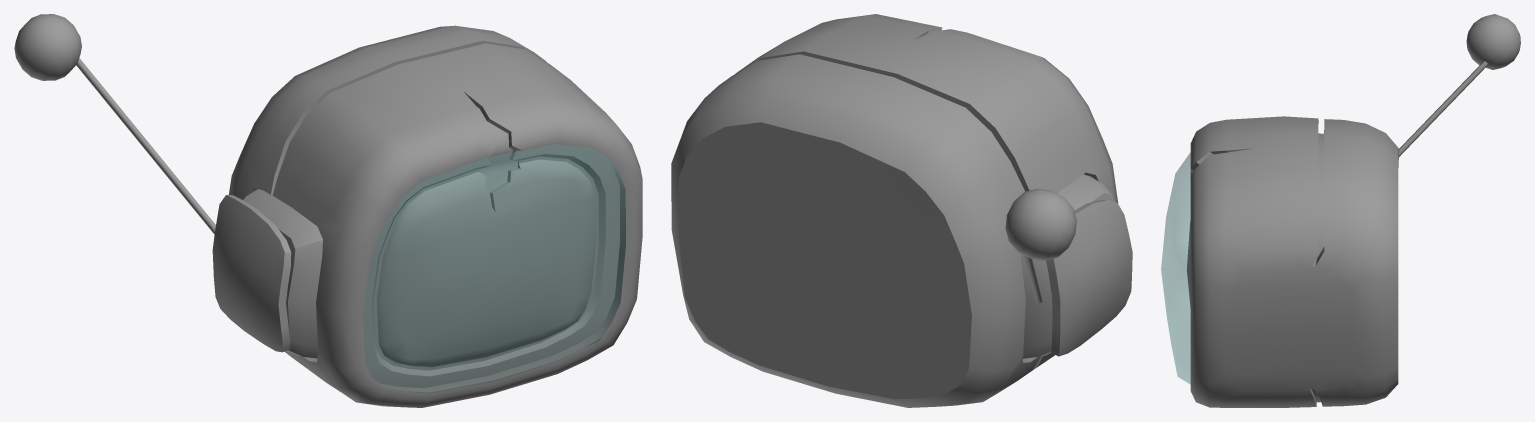
File: StarterBot_Head_Char_01.FBX
3 renders of one model, left to right at view 1: azimuth 30°, elevation 25°; view 2: azimuth 150°, elevation 25°; view 3: azimuth 270°, elevation 25°, orthographic. The views are drawn at different scales.
Parts seen in each view (by area): view 1: StarterBot_Head_Char_01; view 2: StarterBot_Head_Char_01; view 3: StarterBot_Head_Char_01.
Part boxes in pixels (x1=…): StarterBot_Head_Char_01: x1=14, y1=14, x2=642, y2=407; StarterBot_Head_Char_01: x1=671, y1=14, x2=1132, y2=407; StarterBot_Head_Char_01: x1=1161, y1=14, x2=1520, y2=407.
Bounding box in the file's own units: 79.33 × 56.58 × 67.81.
